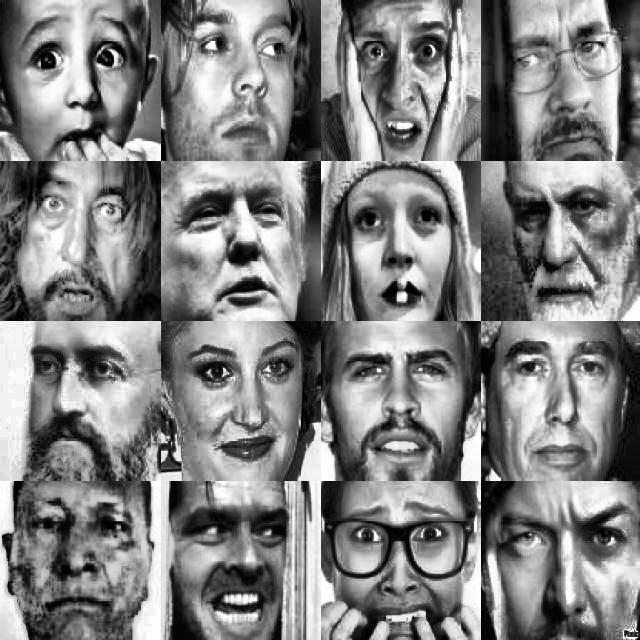angry: (486, 495, 632, 632)
fear: (332, 493, 470, 637), (335, 10, 473, 142), (15, 9, 143, 151), (20, 165, 138, 302)
happy: (180, 487, 297, 640), (177, 325, 303, 467)
neutral: (500, 171, 637, 313), (32, 330, 156, 484), (15, 499, 147, 633), (507, 326, 631, 468), (346, 336, 474, 473), (184, 6, 312, 143), (338, 179, 466, 308), (182, 182, 302, 314)
sad: (499, 11, 621, 147)
